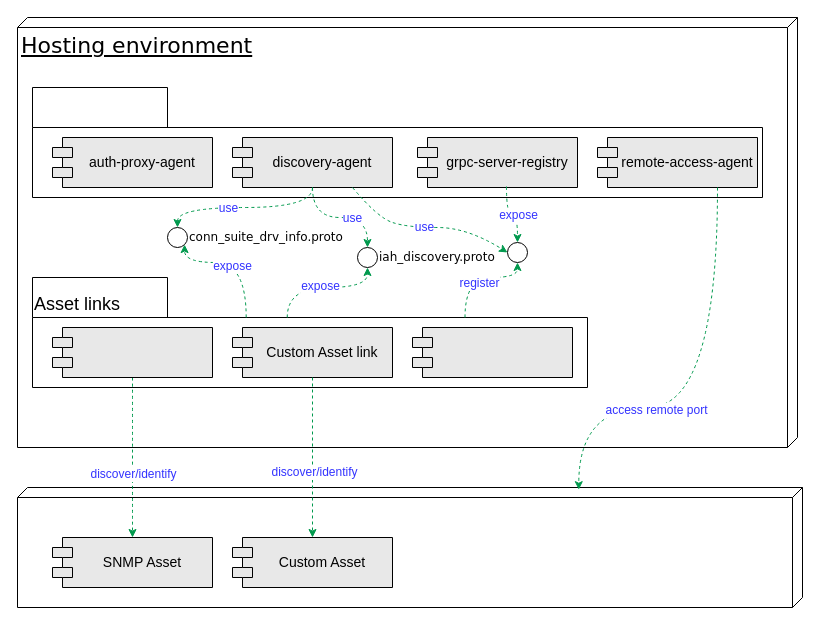
Image size: 820x625. Some labels were removed from this diagram. Each missing label, with the box of its shape:
Asset Gateway: (32, 86, 762, 198)
Asset link SNMP: (52, 326, 212, 378)
conn_suite_registry.proto: (506, 242, 528, 262)
Dummy Driver: (412, 326, 572, 378)
Field Level: (16, 486, 802, 608)
